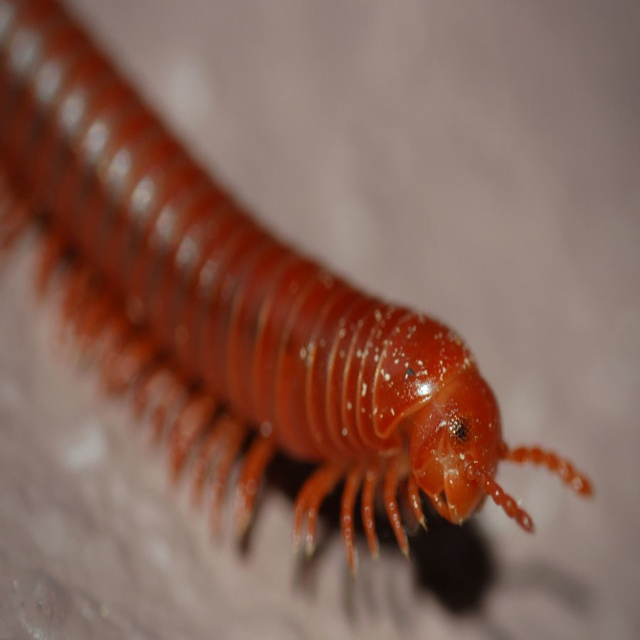Centipede: (0, 0, 596, 581)
